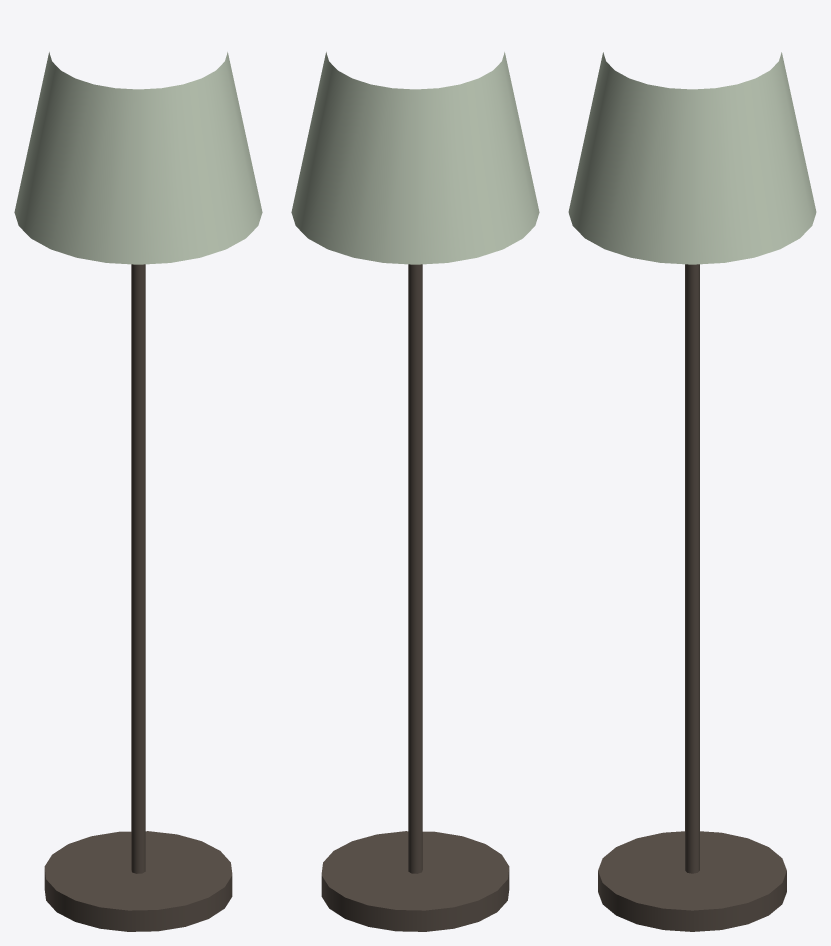
Rendered from lamp-floor-sage.glb.
3 renders of one model, left to right at view 1: azimuth 30°, elevation 25°; view 2: azimuth 150°, elevation 25°; view 3: azimuth 270°, elevation 25°, orthographic.
Visible parts, largest first — view 1: lamp-floor-sage_m_cfdcc7, lamp-floor-sage_m_5a5048; view 2: lamp-floor-sage_m_cfdcc7, lamp-floor-sage_m_5a5048; view 3: lamp-floor-sage_m_cfdcc7, lamp-floor-sage_m_5a5048.
Boxes of the visible parts, left/top/right/bottom form: lamp-floor-sage_m_cfdcc7: left=14, top=52, right=262, bottom=264; lamp-floor-sage_m_5a5048: left=44, top=264, right=232, bottom=931; lamp-floor-sage_m_cfdcc7: left=291, top=52, right=539, bottom=264; lamp-floor-sage_m_5a5048: left=321, top=264, right=509, bottom=931; lamp-floor-sage_m_cfdcc7: left=568, top=52, right=816, bottom=264; lamp-floor-sage_m_5a5048: left=598, top=264, right=786, bottom=931.
Bounding box in the file's own units: 0.42 × 1.57 × 0.42.
